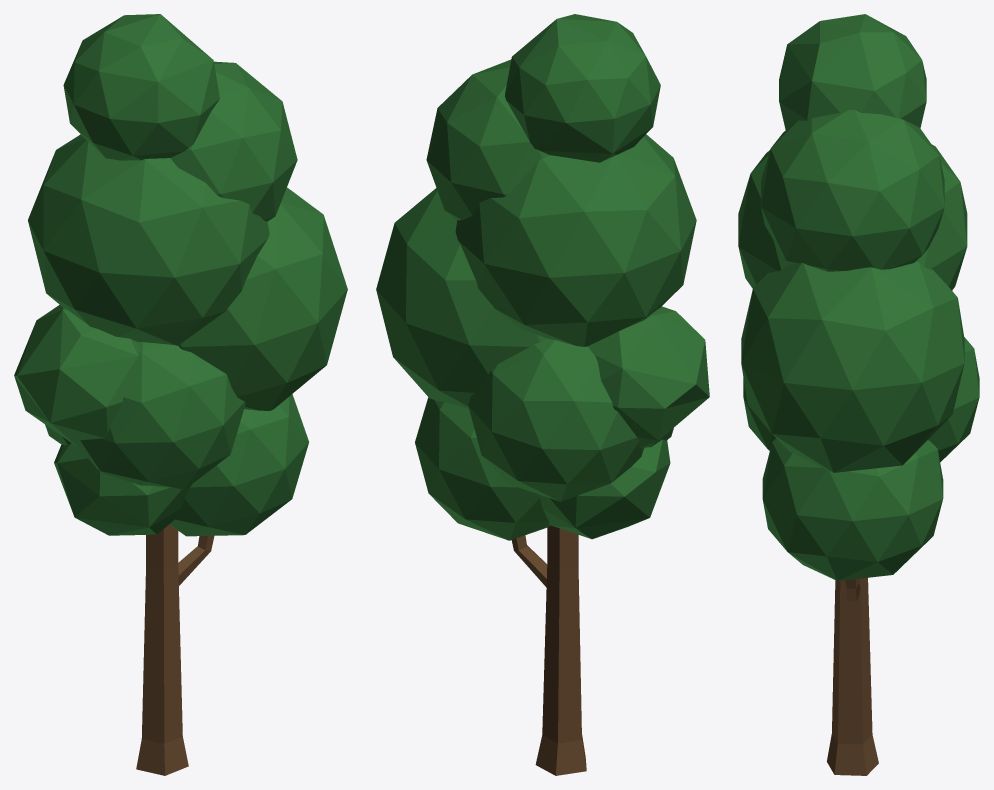
The model's file is tree-oak.glb.
3 renders of one model, left to right at view 1: azimuth 30°, elevation 25°; view 2: azimuth 150°, elevation 25°; view 3: azimuth 270°, elevation 25°, orthographic.
Parts seen in each view (by area): view 1: tree-oak; view 2: tree-oak; view 3: tree-oak.
Boxes of the visible parts, <box> form: tree-oak: <box>14,14,347,775</box>; tree-oak: <box>376,14,709,775</box>; tree-oak: <box>738,14,979,775</box>.
Size of the model in its own units: 4.2 by 9.68 by 2.88.
